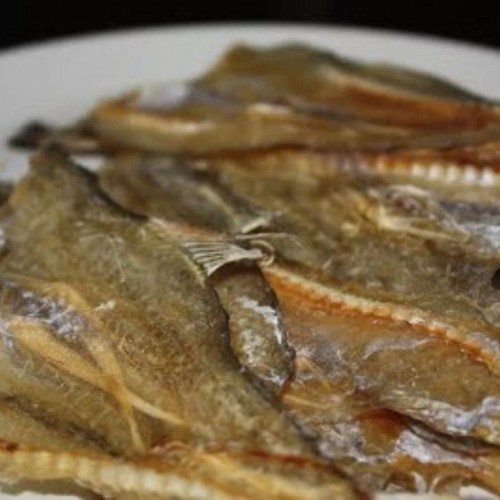sudang lepet: (17, 169, 467, 477)
